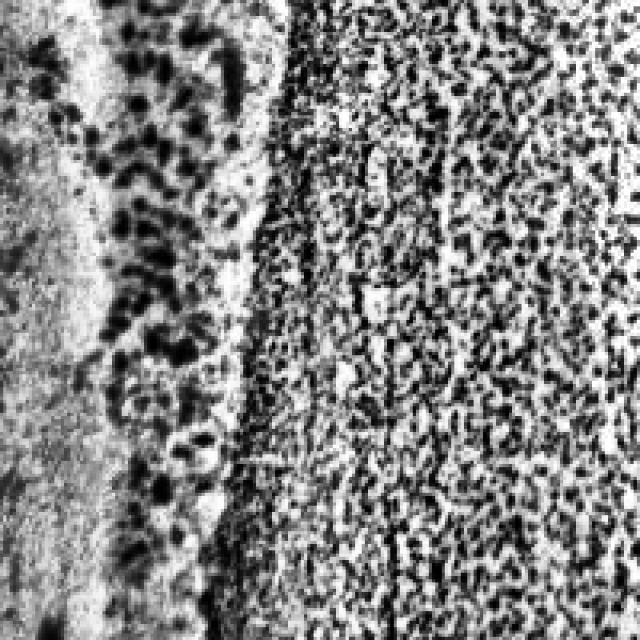Rolled_in_Scale: (227, 0, 637, 634), (16, 0, 240, 592)
